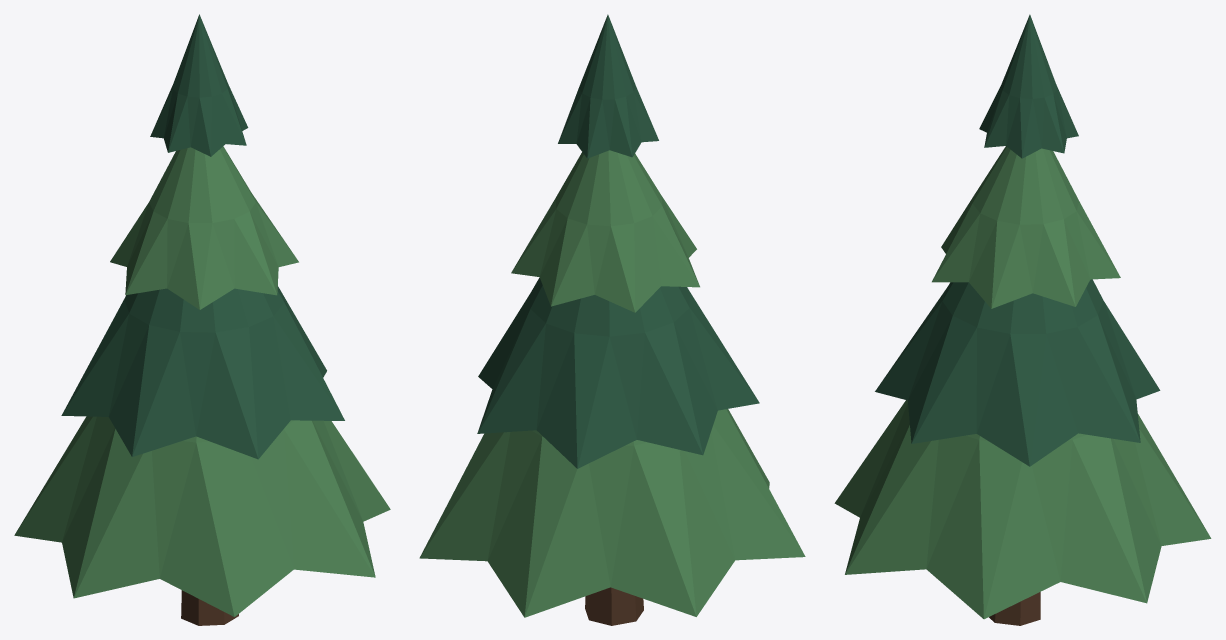
The model's file is Pine_Medium.fbx.
3 renders of one model, left to right at view 1: azimuth 30°, elevation 25°; view 2: azimuth 150°, elevation 25°; view 3: azimuth 270°, elevation 25°, orthographic.
Parts seen in each view (by area): view 1: Pine_Medium.001; view 2: Pine_Medium.001; view 3: Pine_Medium.001.
Part boxes in pixels (box(x1,y1,x2,y2)): Pine_Medium.001: box(14, 14, 390, 625); Pine_Medium.001: box(419, 14, 805, 625); Pine_Medium.001: box(834, 14, 1211, 625).
Bounding box in the file's own units: 2.54 × 4.4 × 2.51.
